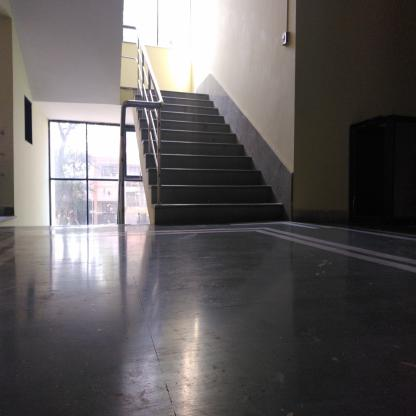stairs: (166, 92, 209, 230)
